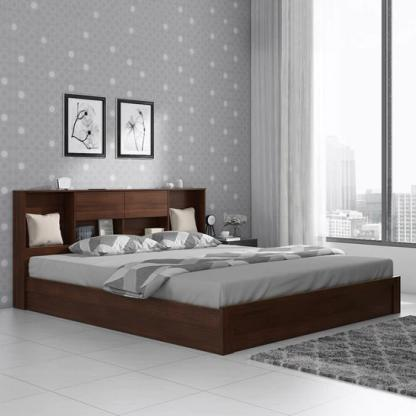Bed: (13, 188, 404, 340)
Curtains: (250, 0, 416, 248)
Frame: (64, 94, 105, 154), (118, 99, 154, 157)
